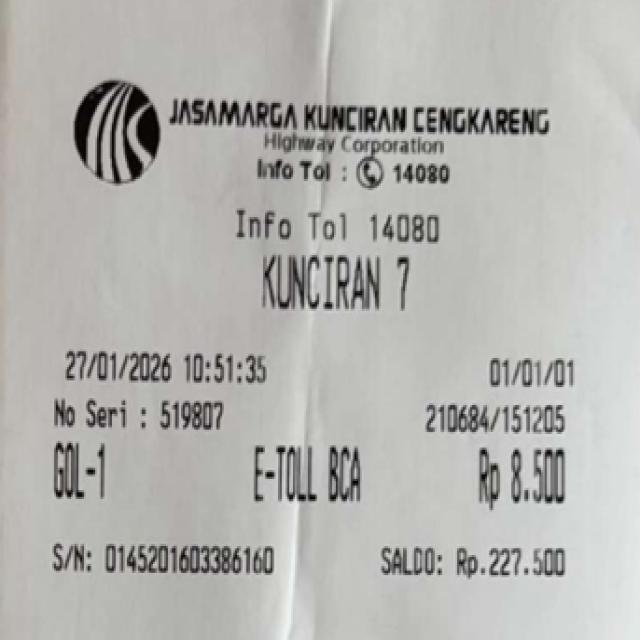date: (58, 343, 281, 392)
store: (159, 90, 564, 146)
total: (453, 440, 593, 507)
